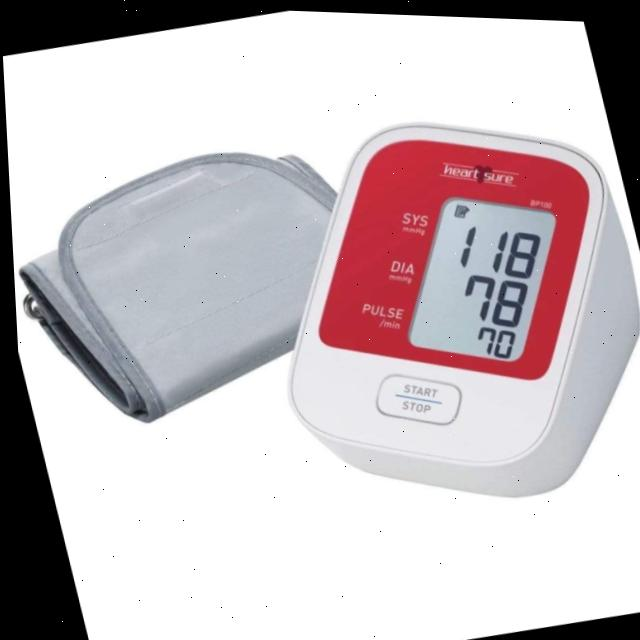dia: (451, 263, 533, 327)
pul: (463, 317, 513, 359)
ssd: (404, 184, 553, 371)
sys: (440, 214, 543, 276)
